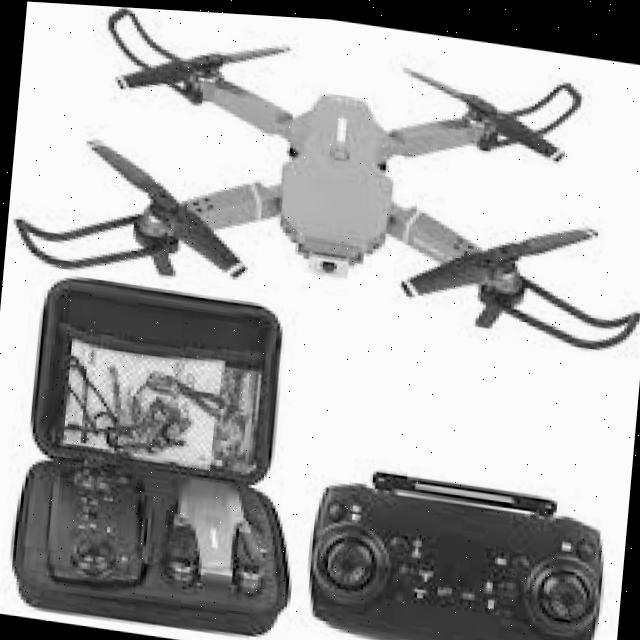drone: (1, 0, 640, 377)
